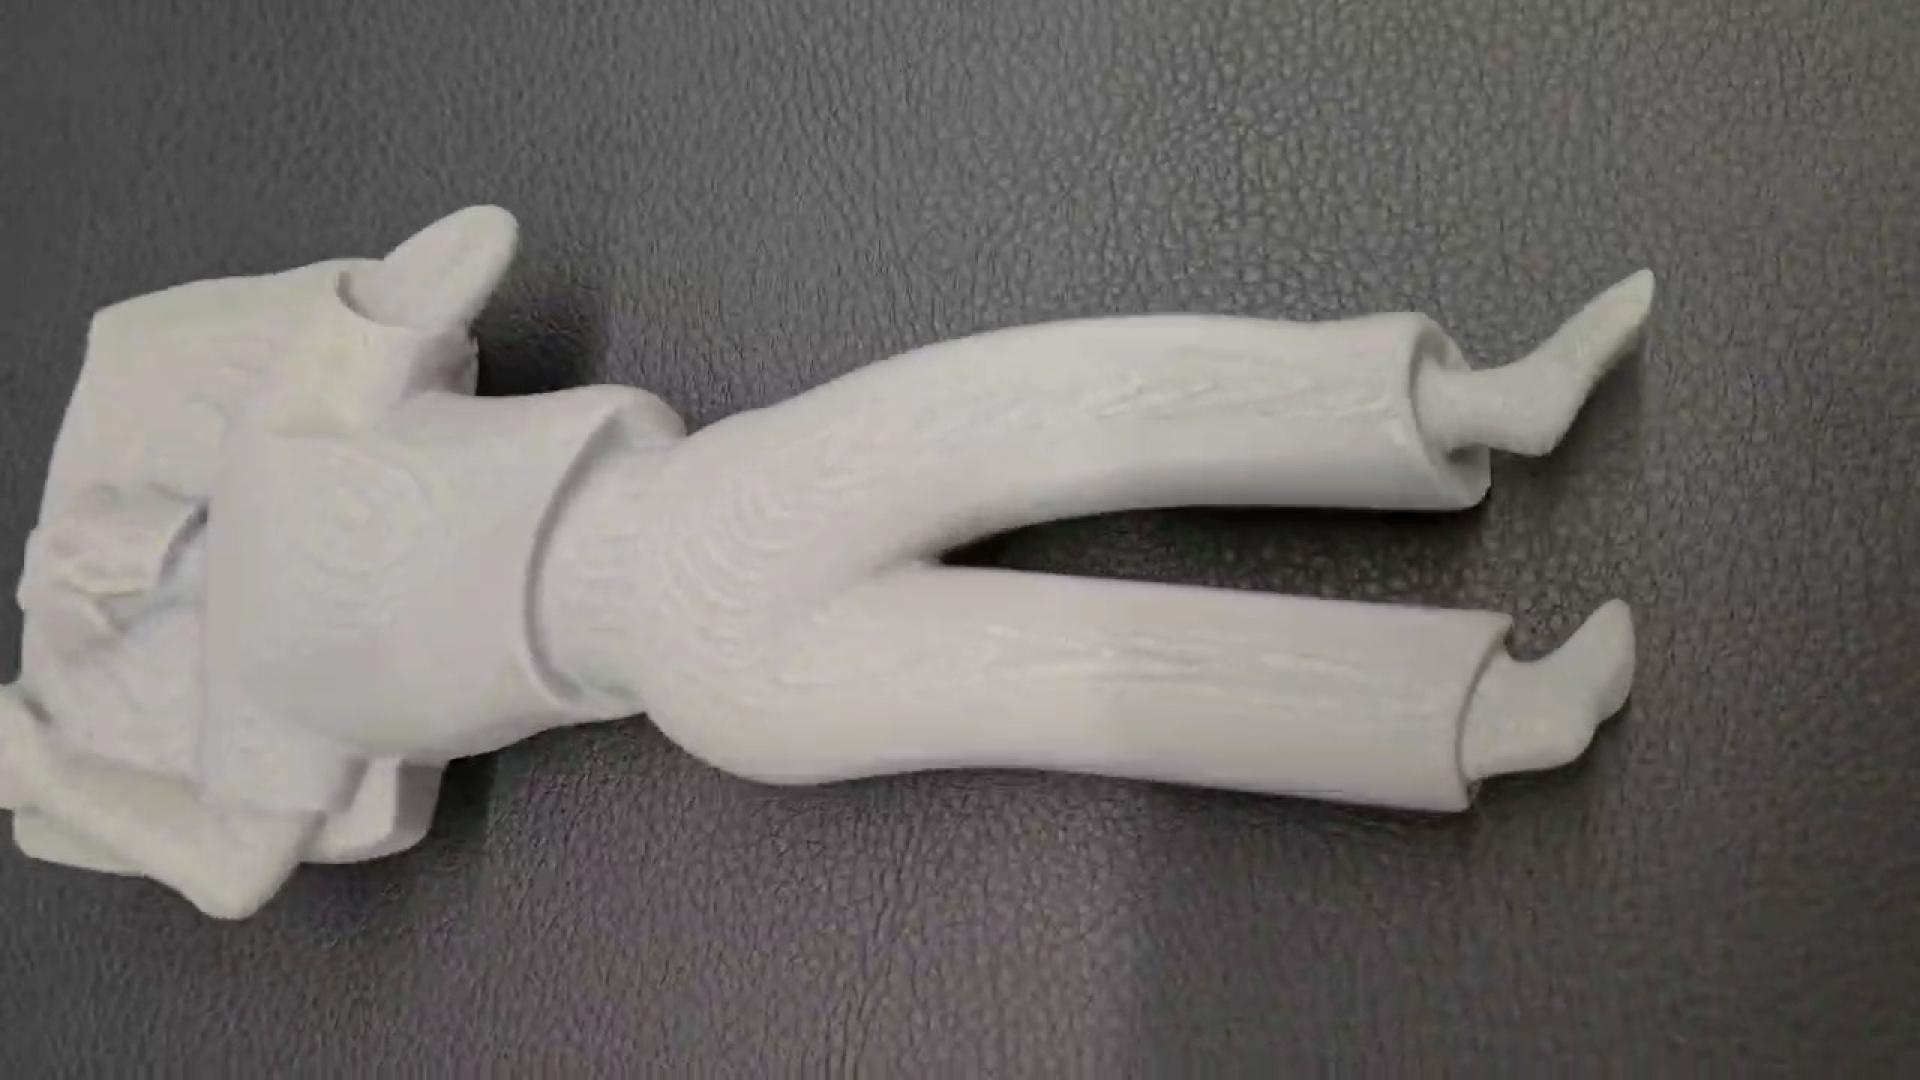Bad-style: (0, 195, 1659, 920)
